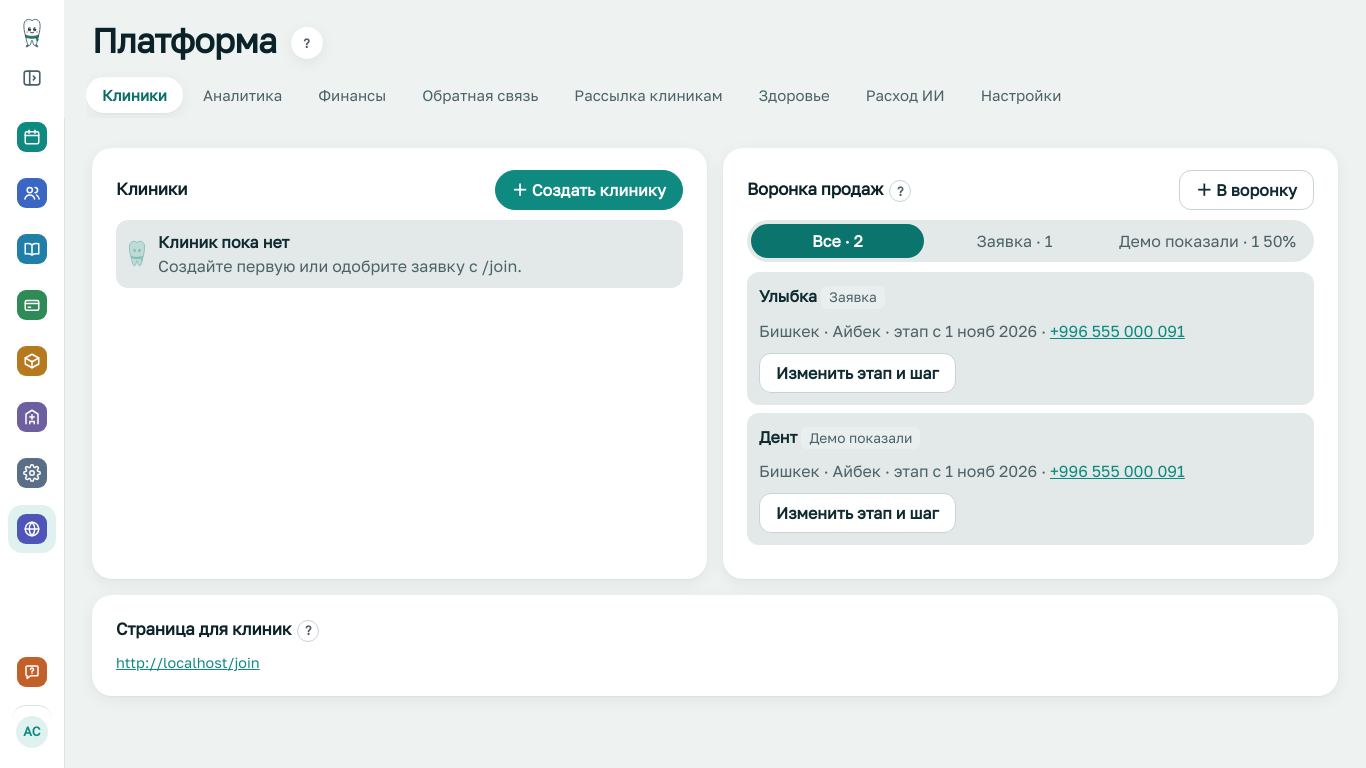
Test: воронка: вернуться ко всем лидам после фильтра
What coordinates should you click on to do the following:
click the button "Демо показали · 1 50%"
I would click on:
 (1208, 241)
Its box is [1105, 224, 1310, 258].
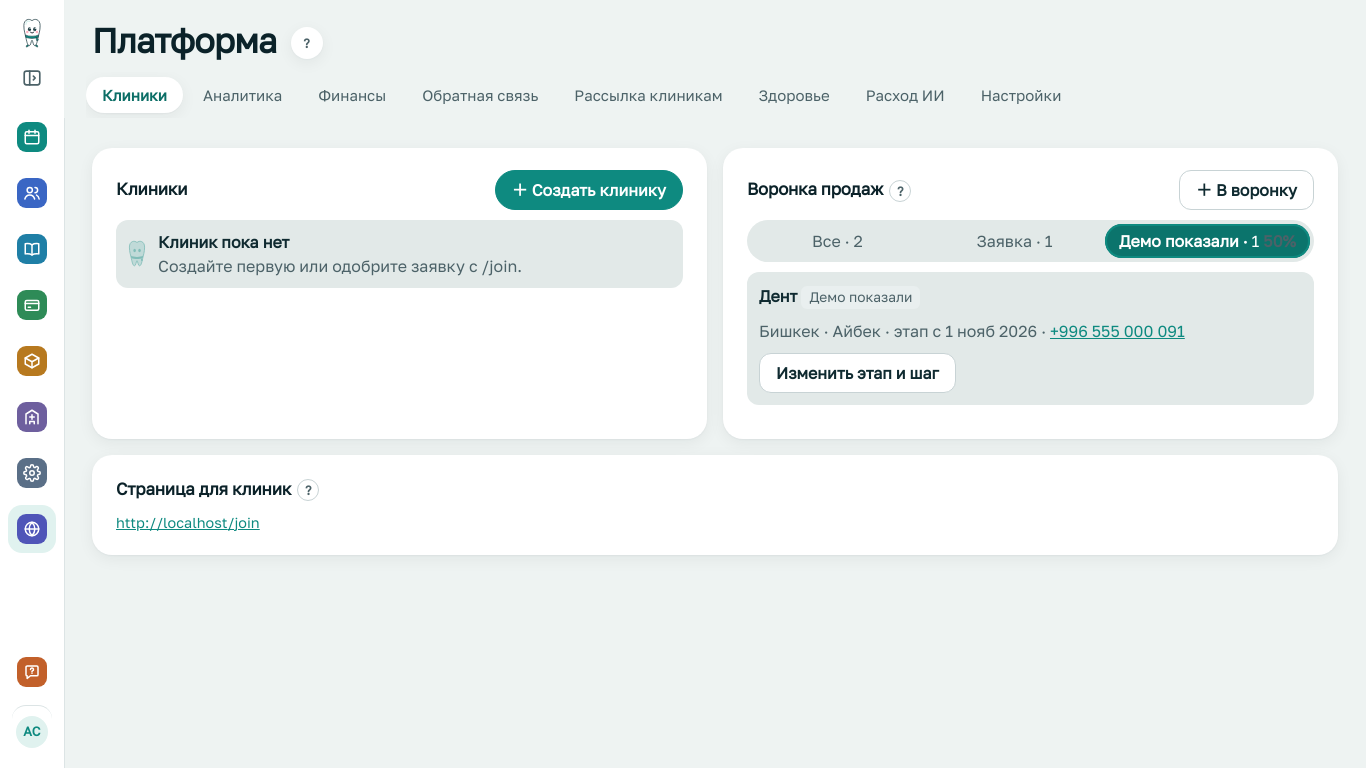
What coordinates should you click on to do the following:
click the button "Все · 2"
I would click on:
 (838, 241)
Its box is [751, 224, 924, 258].
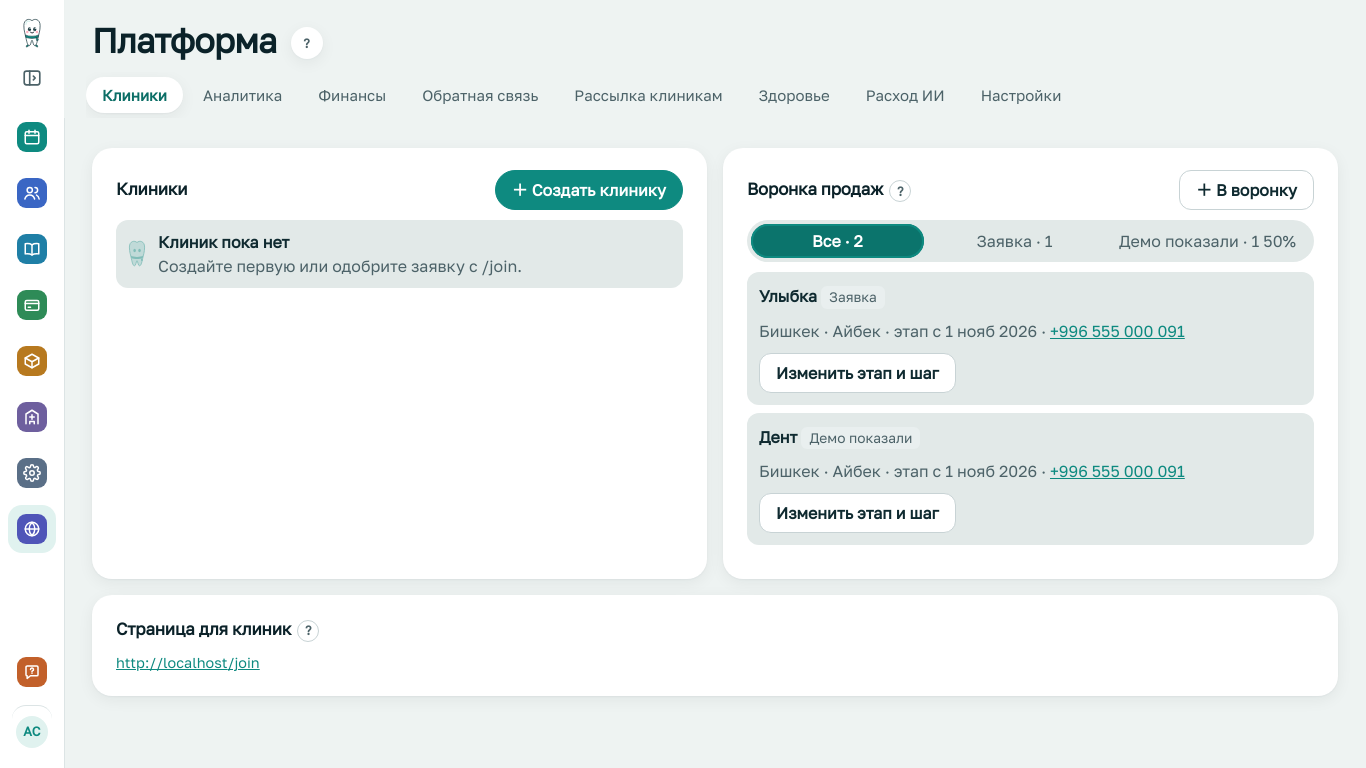
Expected: the list item with aria-label "Лид: Улыбка" is shown, [747, 272, 1314, 405]
